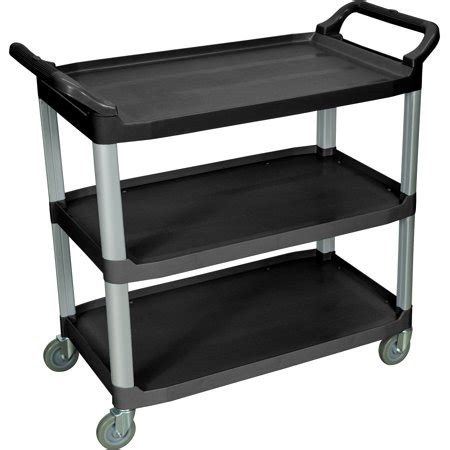Carts: (9, 1, 441, 450)
